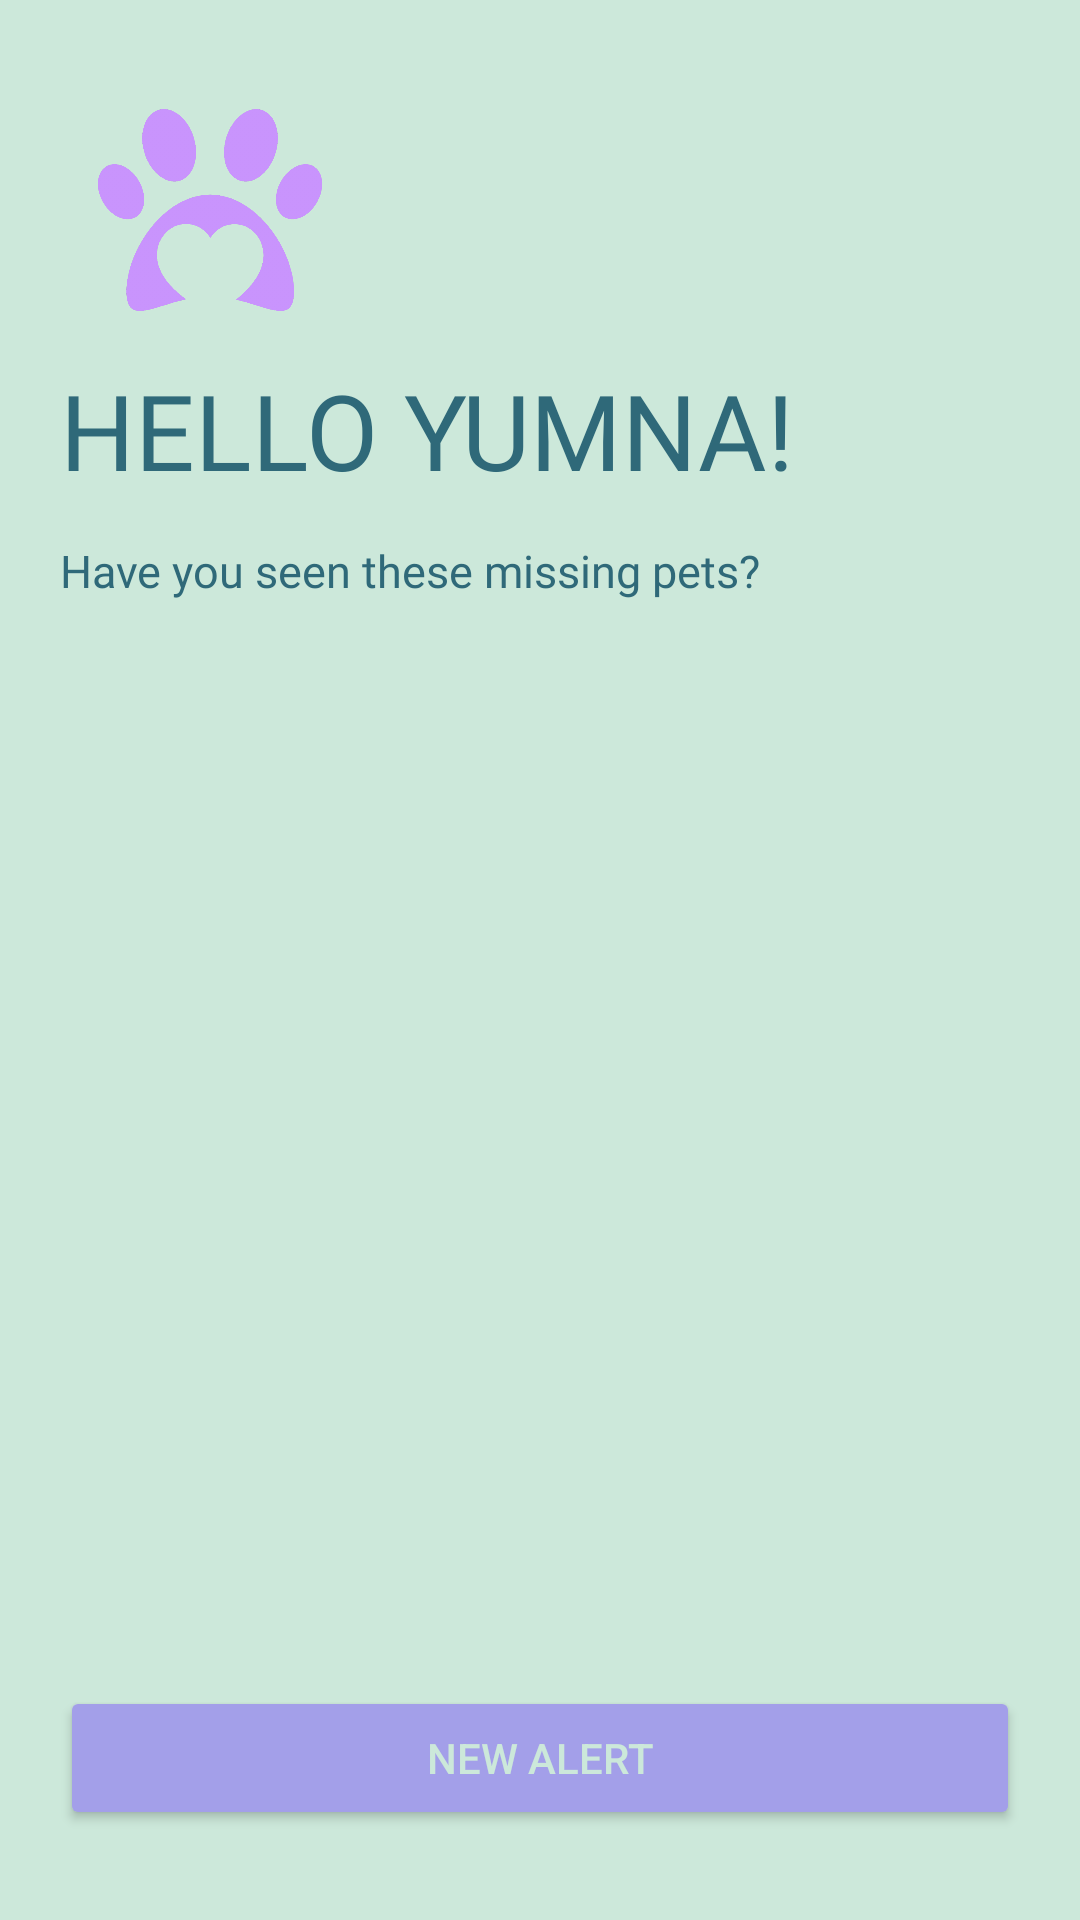

Named icons in this screenshot (1080 x 1920) and their centers, point (x, y):
paw: point (210, 210)
